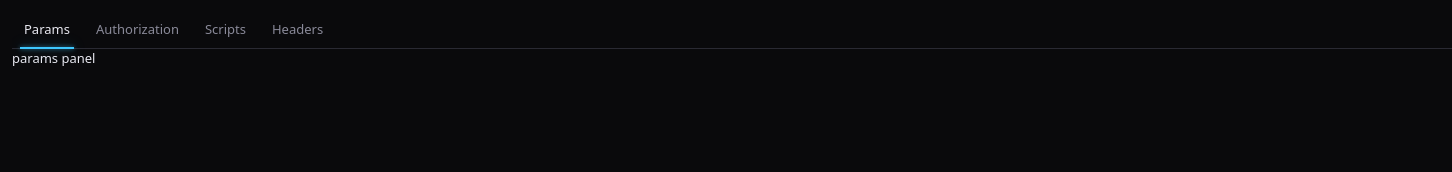
Test: Tabs › keeps a hidden panel mounted with its state
Click the tab "Authorization" at coordinates (138, 30), box [84,12,191,48]
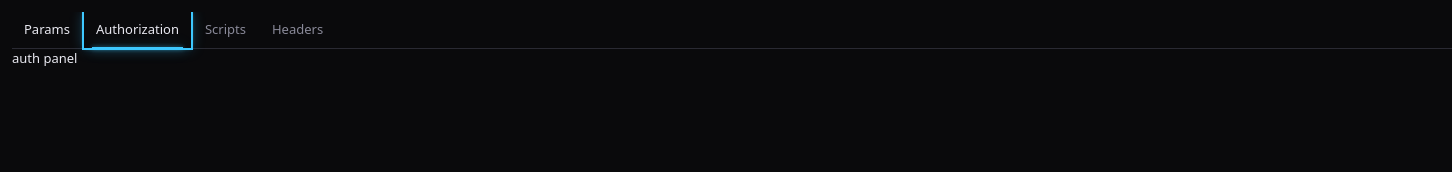
Result: the text "auth panel" is shown at [12,48,78,66]
